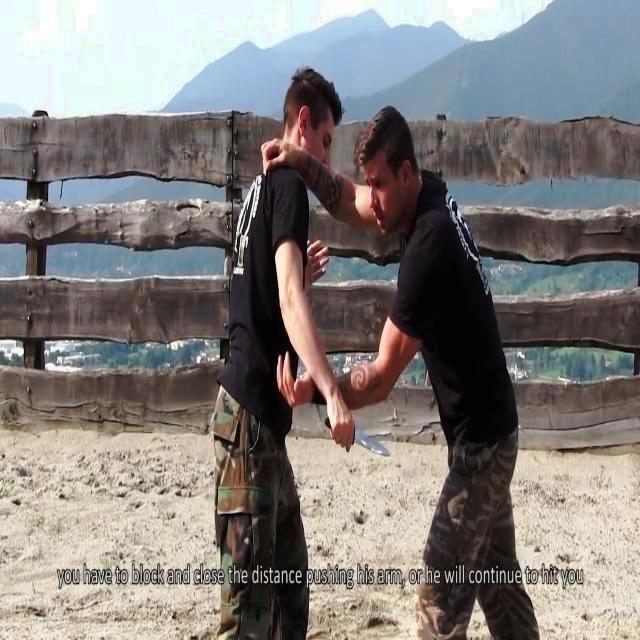Knife: (332, 424, 394, 467)
